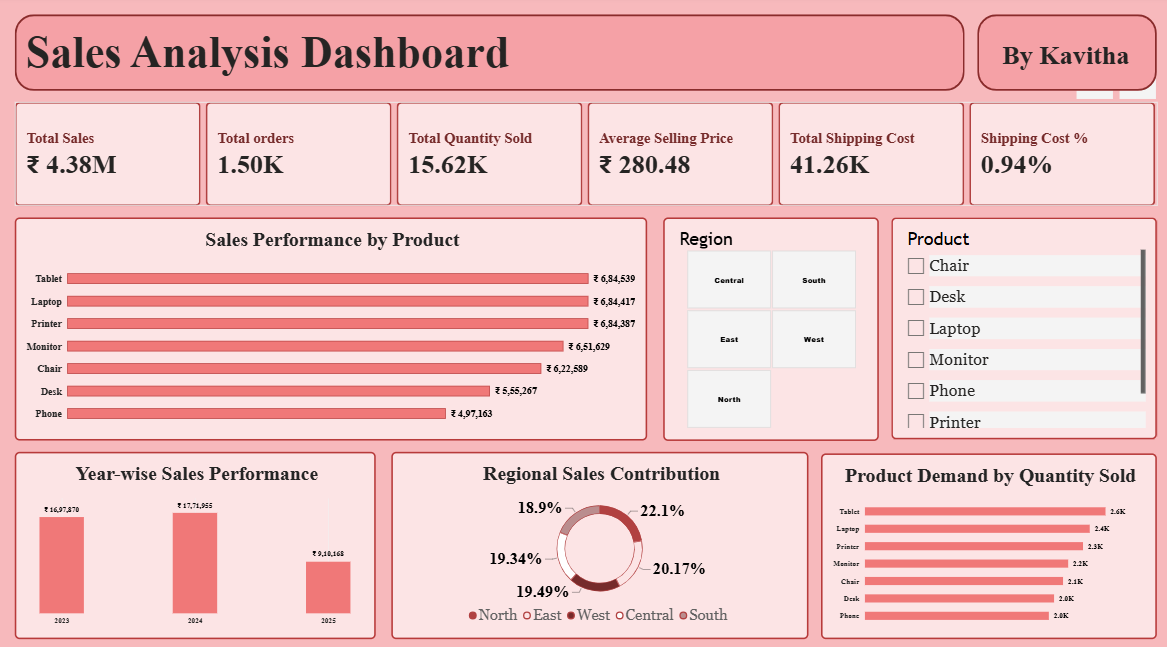

Layout of this report page (visuals, bound fields, positions):
{"tool":"powerbi","page":{"name":"Page 1","canvas":[1920,1080],"ordinal":0},"visuals":[{"type":"clusteredBarChart","title":"Sales Performance by Product","fields":{"Category":["Sheet1.Product"],"Y":["Sheet1.Total Sales"]},"box":[31.1,363.3,1030.1,363.3],"z":0},{"type":"clusteredColumnChart","title":"Year-wise Sales Performance","fields":{"Category":["Sheet1.OrderDate.Variation.Date Hierarchy.Year"],"Y":["Sheet1.Total Sales"]},"box":[30.5,745.9,588.1,305.5],"z":1000},{"type":"donutChart","title":"Regional Sales Contribution","fields":{"Category":["Sheet1.Region"],"Y":["Sheet1.Total Sales"]},"box":[644.1,745.9,679.7,305.5],"z":2000},{"type":"slicer","fields":{"Values":["Sheet1.Region"]},"box":[1087,364,351.3,364],"z":3000},{"type":"slicer","fields":{"Values":["Sheet1.Product"]},"box":[1458.7,364,432.8,361.5],"z":4000},{"type":"cardVisual","fields":{"Data":["Sheet1.Total Sales","Sheet1.Total orders","Sheet1.Total Quantity Sold","Sheet1.Average Selling price","Sheet1.Total Shipping Cost","Sheet1.Shipping Cost %"]},"box":[30.5,175.7,1861,170.6],"z":7000},{"type":"clusteredBarChart","title":"Product Demand by Quantity Sold","fields":{"Category":["Sheet1.Product"],"Y":["Sheet1.Total Quantity Sold"]},"box":[1344.2,748.5,547.3,302.9],"z":8000},{"type":"shape","box":[30.5,33.1,1547.8,124.7],"z":8001},{"type":"textbox","box":[48.4,53.5,1107.4,104.4],"z":8002},{"type":"shape","box":[1598.7,33.1,292.8,124.7],"z":8003},{"type":"textbox","box":[1639.5,76.4,252,81.5],"z":8004}]}

Visuals, with their boxes in screenshot pixels (x1, y1, x2, y2), scaled from the page's 1920x1080 canvas onto the 1167x647 screenshot:
"Sales Performance by Product" clusteredBarChart: 19 218 645 435
"Year-wise Sales Performance" clusteredColumnChart: 19 447 376 630
"Regional Sales Contribution" donutChart: 391 447 805 630
slicer - Sheet1.Region: 661 218 874 436
slicer - Sheet1.Product: 887 218 1150 435
cardVisual - Sheet1.Total Sales x Sheet1.Total orders: 19 105 1150 207
"Product Demand by Quantity Sold" clusteredBarChart: 817 448 1150 630
shape: 19 20 959 95
textbox: 29 32 703 95
shape: 972 20 1150 95
textbox: 997 46 1150 95
